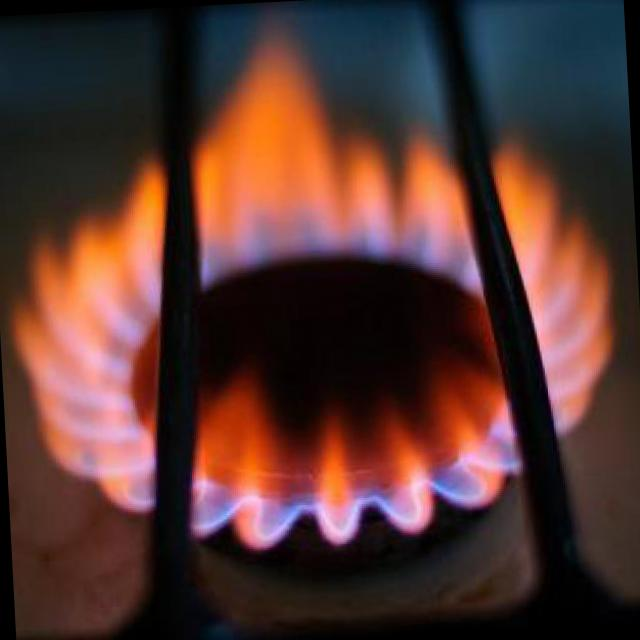fire: (2, 32, 634, 556)
